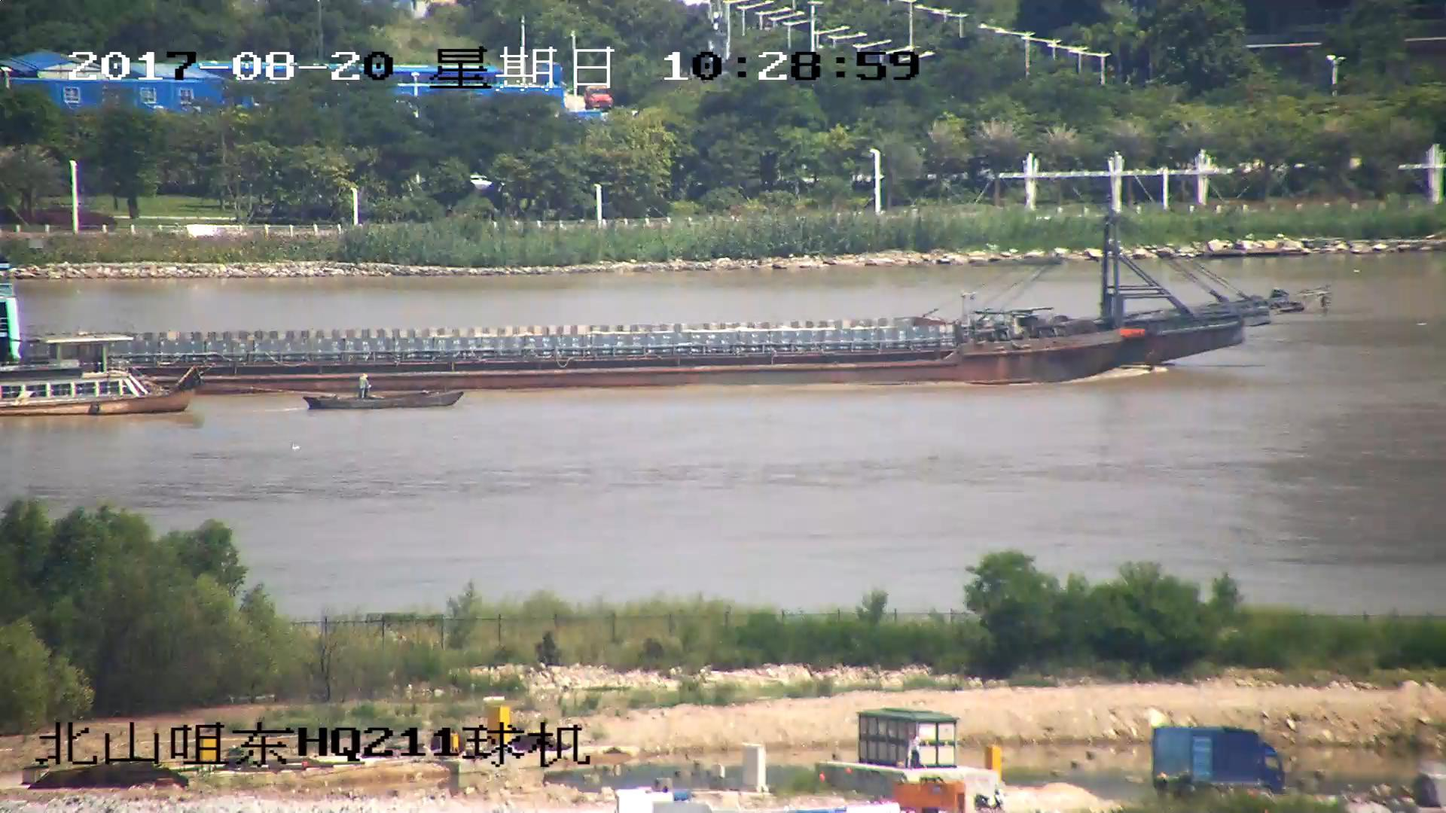fishing boat: (0, 332, 201, 414), (305, 375, 457, 409)
ore carrier: (0, 205, 1326, 397)
